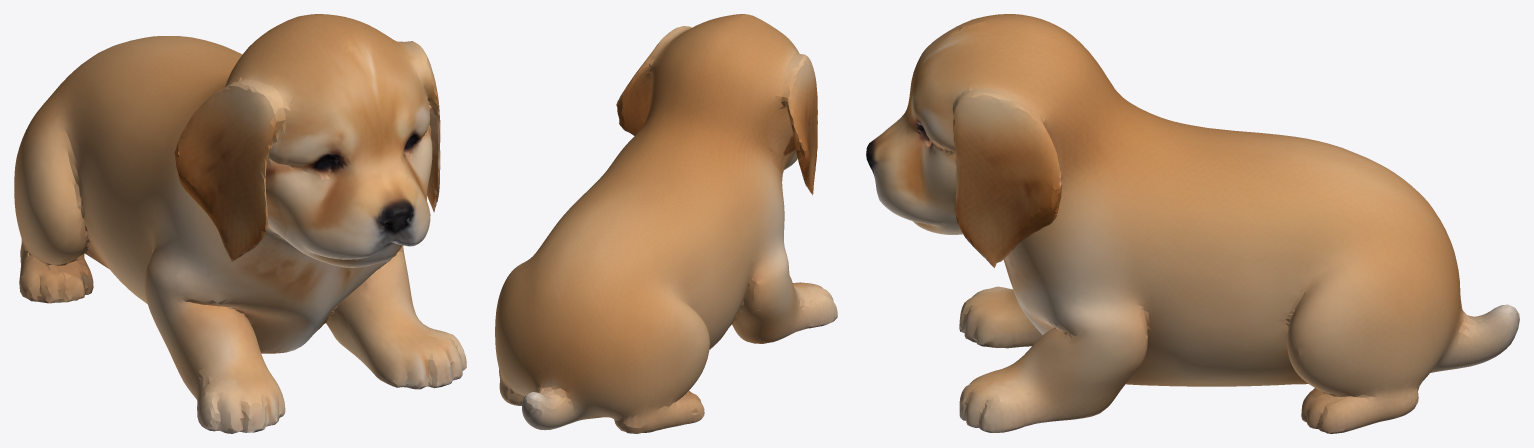
The model's file is puppy.glb.
3 renders of one model, left to right at view 1: azimuth 30°, elevation 25°; view 2: azimuth 150°, elevation 25°; view 3: azimuth 270°, elevation 25°, orthographic. The views are drawn at different scales.
Parts seen in each view (by area): view 1: model; view 2: model; view 3: model.
Part boxes in pixels (left/top/right/bottom): model: left=14, top=14, right=466, bottom=433; model: left=495, top=14, right=837, bottom=433; model: left=866, top=14, right=1519, bottom=433.
Size of the model in its own units: 0.848 by 1.13 by 1.9.
1 material, 1 textured.
